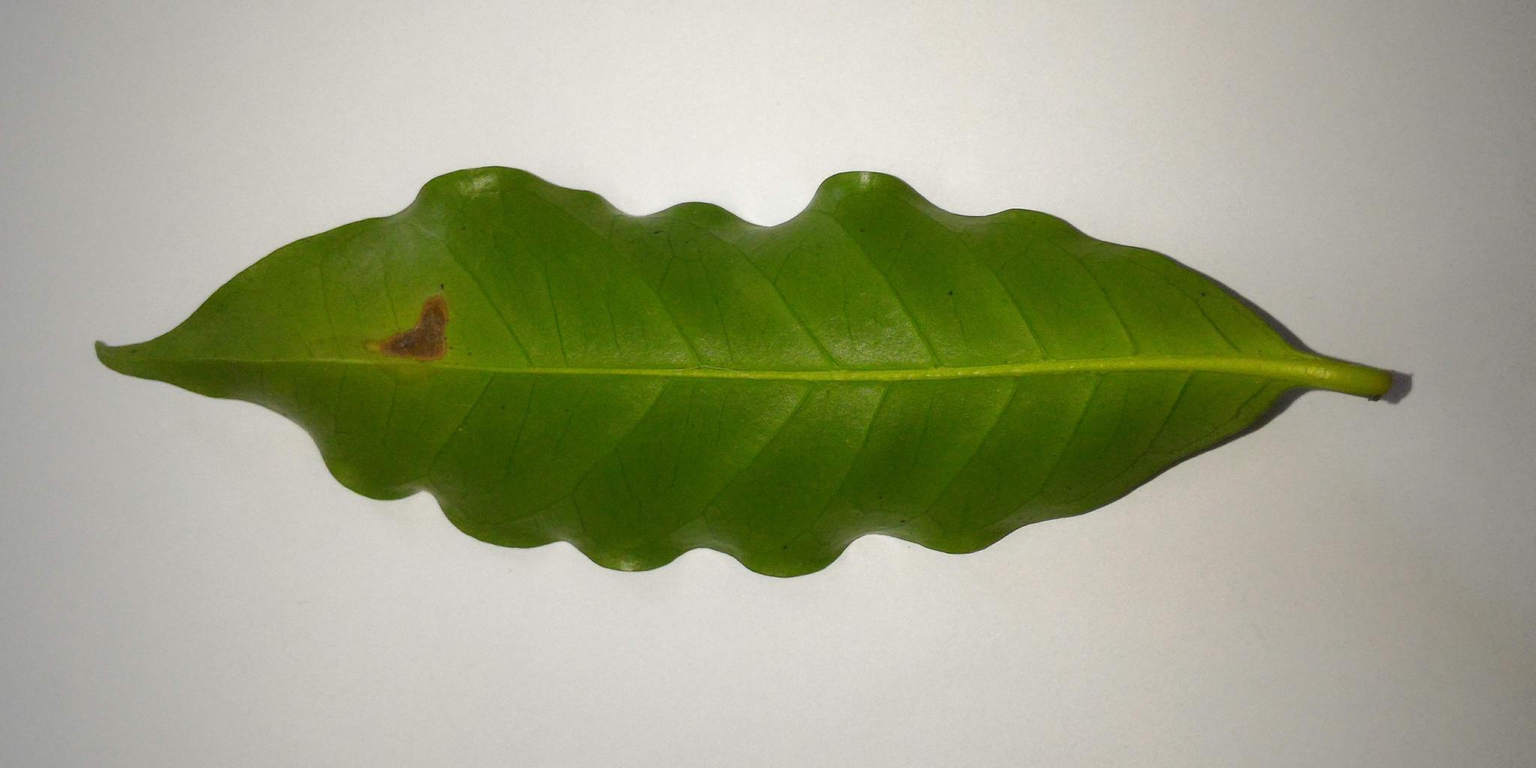Miner: (363, 284, 460, 378)
